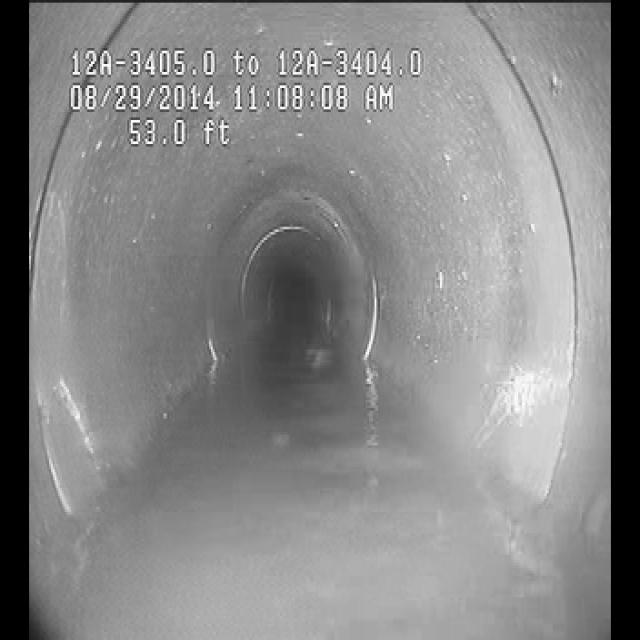Crack: (42, 198, 112, 455)
